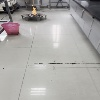fire: (30, 5, 38, 15)
